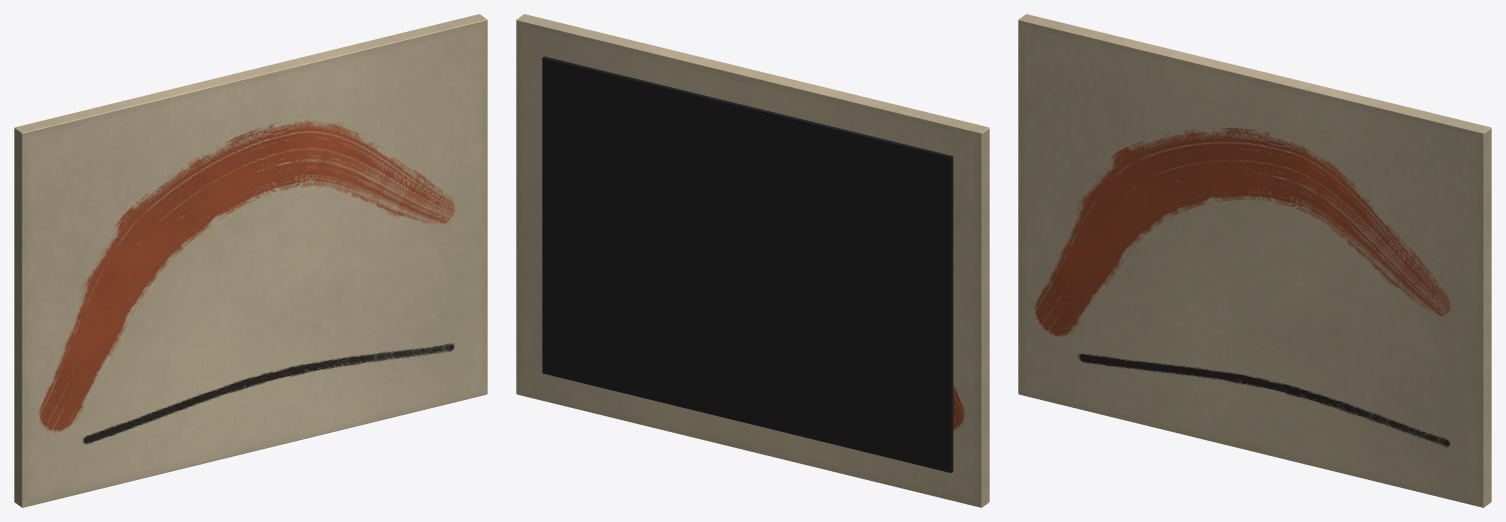
The model's file is art_sweep_terracotta.gltf.
3 views of the same model, side by side, from view 1: azimuth 30°, elevation 25°; view 2: azimuth 150°, elevation 25°; view 3: azimuth 330°, elevation 25° (orthographic).
Visible parts, largest first — view 1: Art_SweepTerracotta_Art; view 2: Art_SweepTerracotta_Spacer, Art_SweepTerracotta_Art; view 3: Art_SweepTerracotta_Art.
Boxes of the visible parts, x1,y1,x2,y2 form: Art_SweepTerracotta_Art: (14,14,487,507); Art_SweepTerracotta_Spacer: (542,56,953,472); Art_SweepTerracotta_Art: (516,14,989,507); Art_SweepTerracotta_Art: (1018,14,1491,507).
Size of the model in its own units: 1.3 by 1 by 0.05.
Materials: 2 (1 with a texture image).
